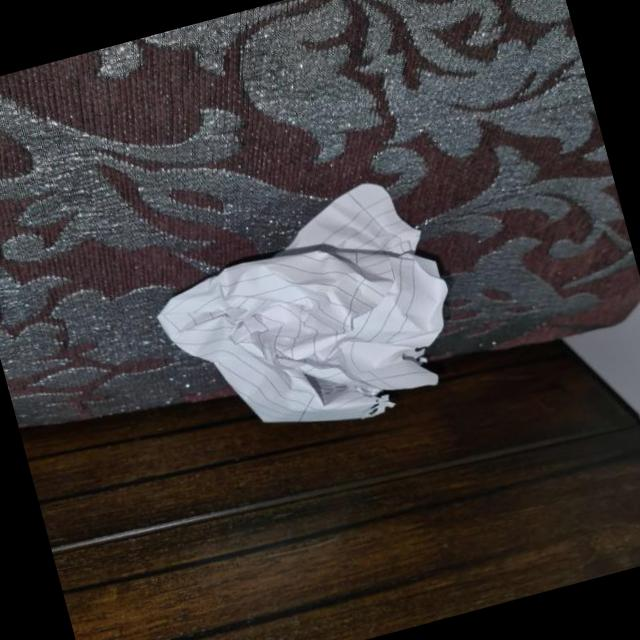cardboard paper: (156, 185, 445, 422)
